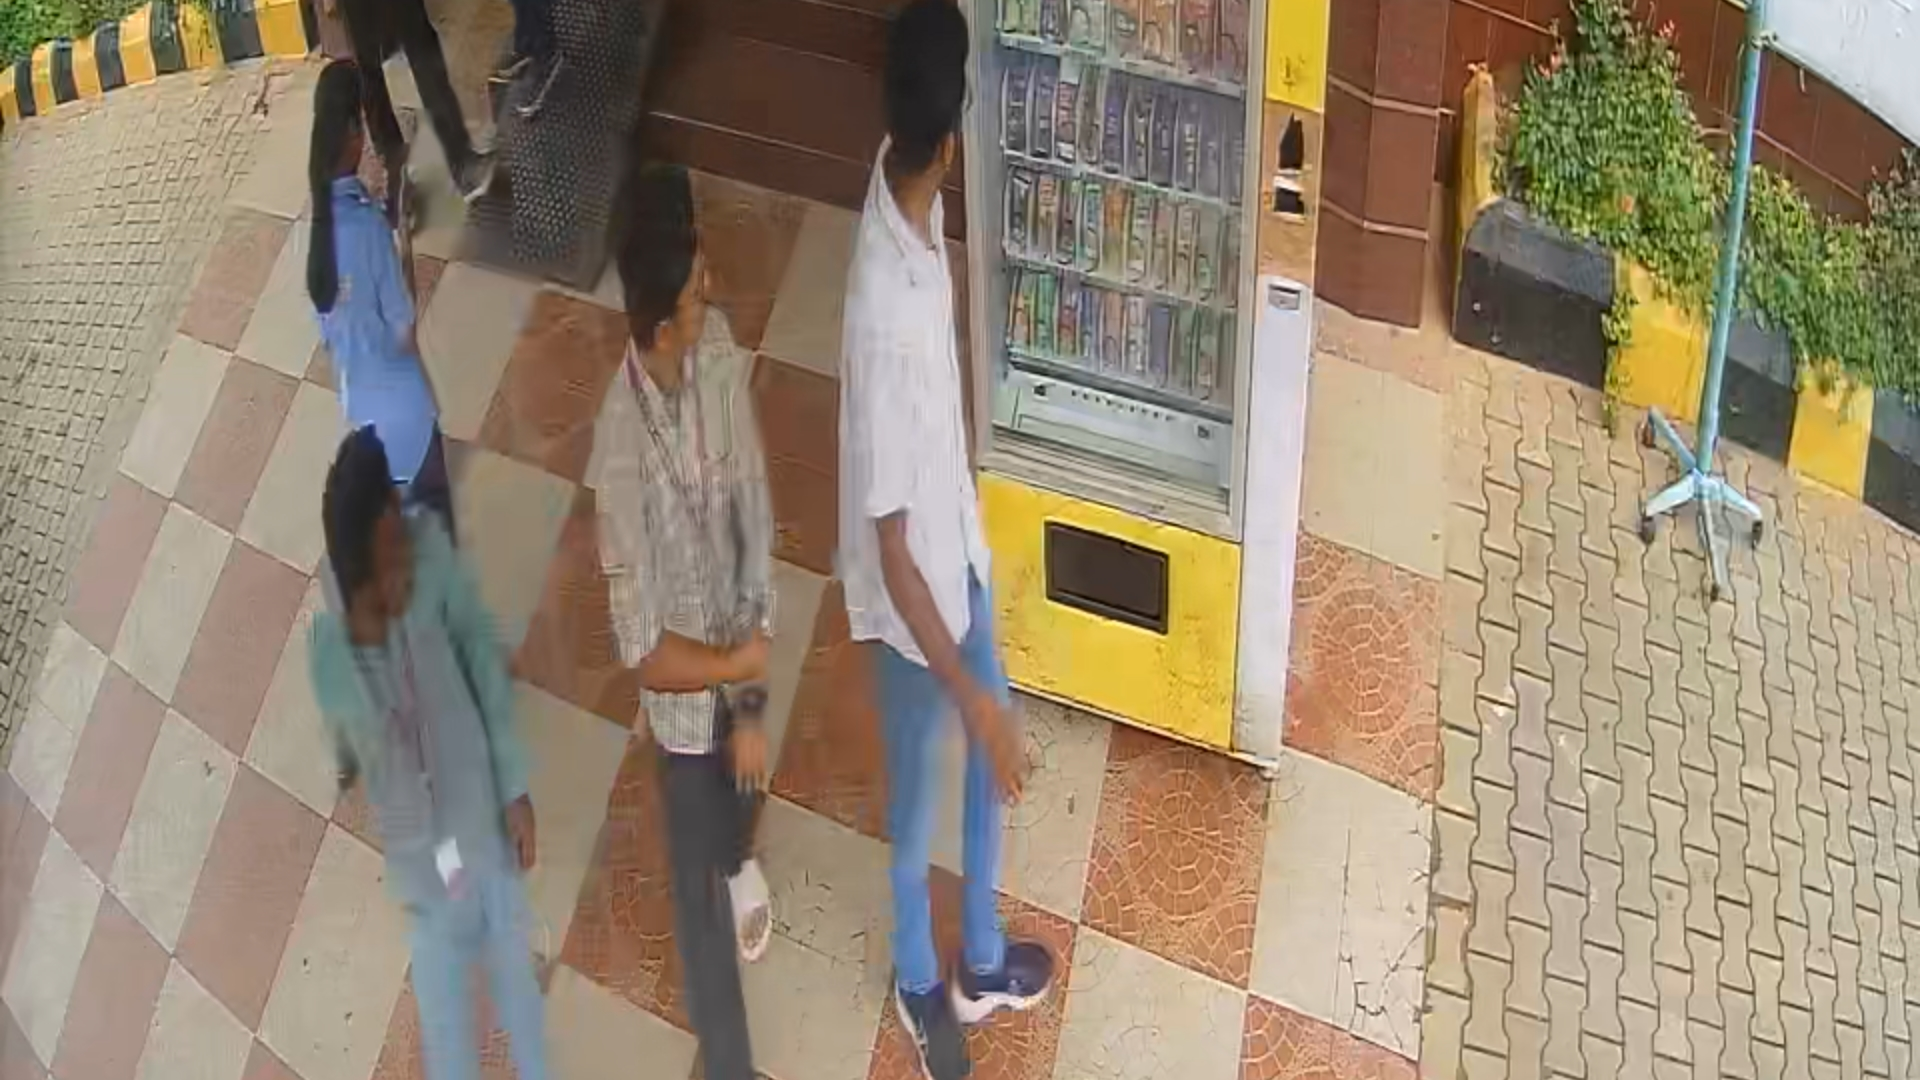intruder: (860, 21, 1043, 1080)
not intruder: (582, 199, 808, 1080), (306, 427, 556, 1080)
